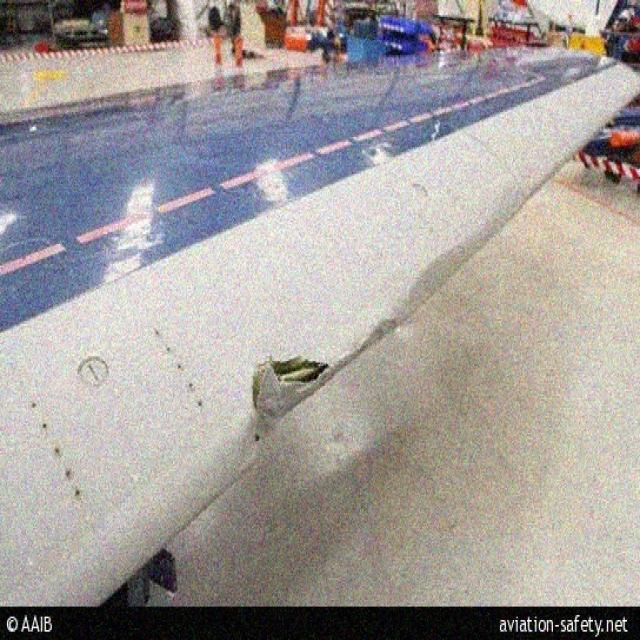crack: (251, 359, 330, 444)
dent: (411, 233, 491, 317), (354, 326, 399, 359)
